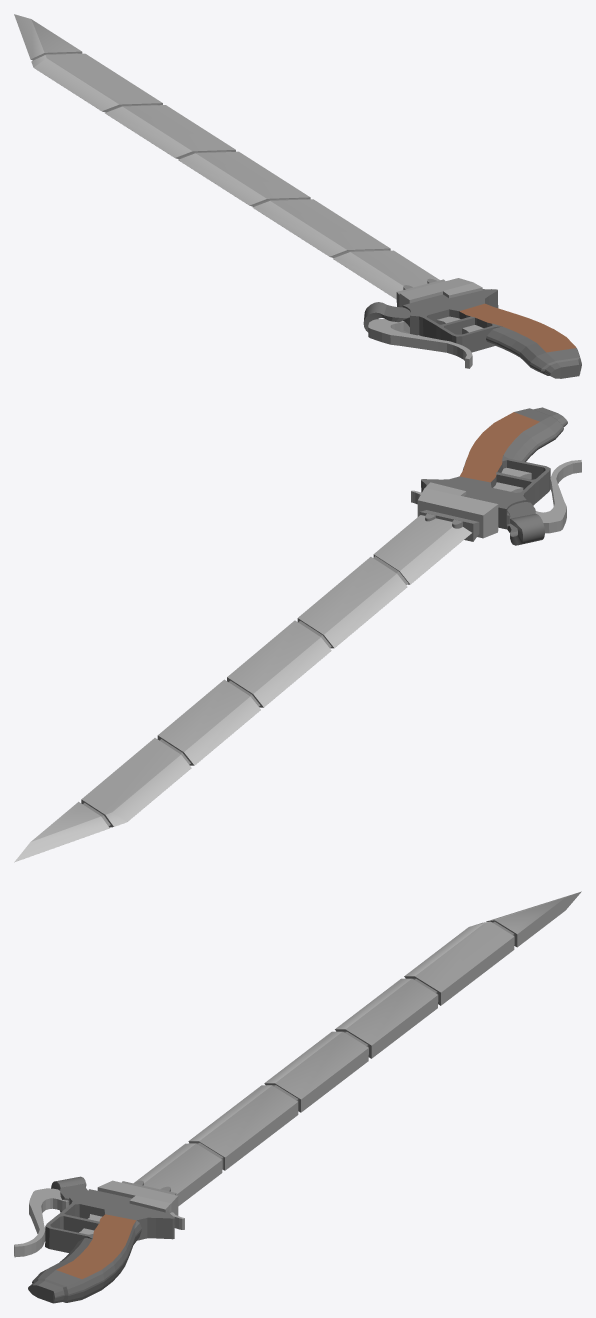
File: Sword.fbx
3 views of the same model, one above another, from view 1: azimuth 30°, elevation 25°; view 2: azimuth 150°, elevation 25°; view 3: azimuth 330°, elevation 25° (orthographic). The views are drawn at different scales.
Parts seen in each view (by area): view 1: pCube19, pCube31, pCube23, pCube22, pPipe1; view 2: pCube19, pCube31, pCube22, pPipe1, pCube23; view 3: pCube19, pCube31, pCube23, pCube22, pPipe1.
Boxes of the visible parts, x1=… form: pCube19: x1=14, y1=14, x2=439, y2=299; pCube31: x1=402, y1=289, x2=581, y2=378; pCube23: x1=368, y1=319, x2=472, y2=368; pCube22: x1=399, y1=278, x2=482, y2=307; pPipe1: x1=363, y1=302, x2=410, y2=333; pCube19: x1=14, y1=515, x2=471, y2=862; pCube31: x1=421, y1=407, x2=567, y2=529; pCube22: x1=417, y1=482, x2=498, y2=538; pPipe1: x1=507, y1=502, x2=544, y2=545; pCube23: x1=535, y1=460, x2=581, y2=533; pCube19: x1=135, y1=891, x2=581, y2=1206; pCube31: x1=28, y1=1189, x2=174, y2=1303; pCube23: x1=14, y1=1188, x2=68, y2=1257; pCube22: x1=97, y1=1180, x2=178, y2=1215; pPipe1: x1=51, y1=1176, x2=87, y2=1212.
Size of the model in its own units: 2.91 by 0.7246 by 20.09.
